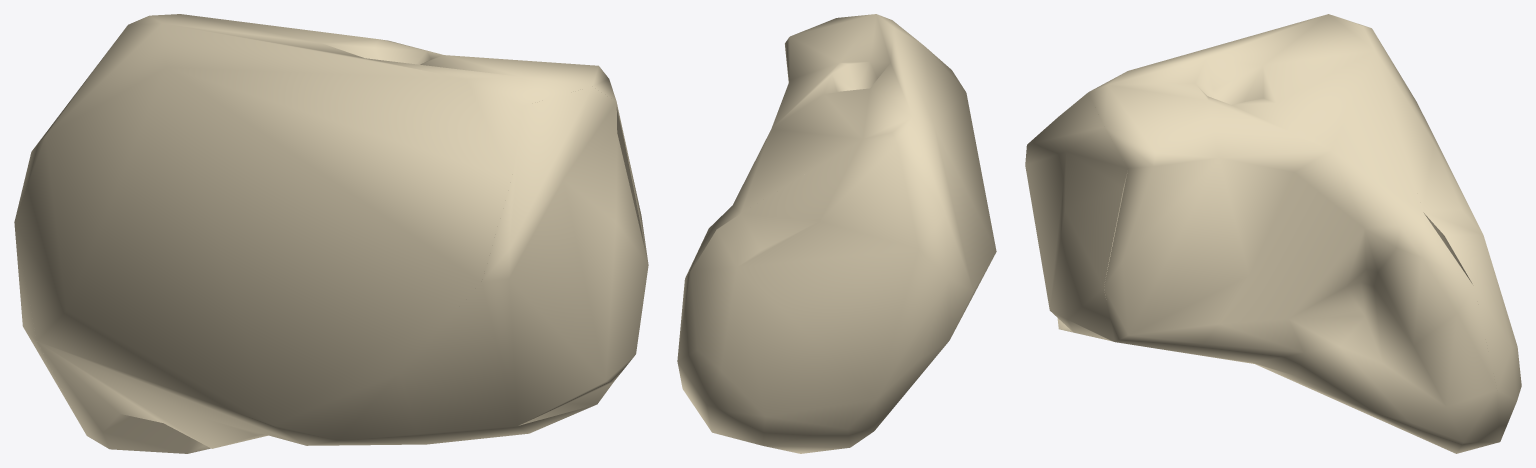
The model's file is esqueleto-trapezoid-bone-r.glb.
The picture shows the model from 3 angles, left to right: view 1: azimuth 30°, elevation 25°; view 2: azimuth 150°, elevation 25°; view 3: azimuth 270°, elevation 25°; orthographic projection. The views are drawn at different scales.
Parts seen in each view (by area): view 1: Trapezoid bone.r; view 2: Trapezoid bone.r; view 3: Trapezoid bone.r.
Boxes of the visible parts, x1,y1,x2,y2 form: Trapezoid bone.r: (14,14,648,453); Trapezoid bone.r: (677,14,996,453); Trapezoid bone.r: (1025,14,1521,453).
Bounding box in the file's own units: 0.0117 × 0.0131 × 0.0155.
